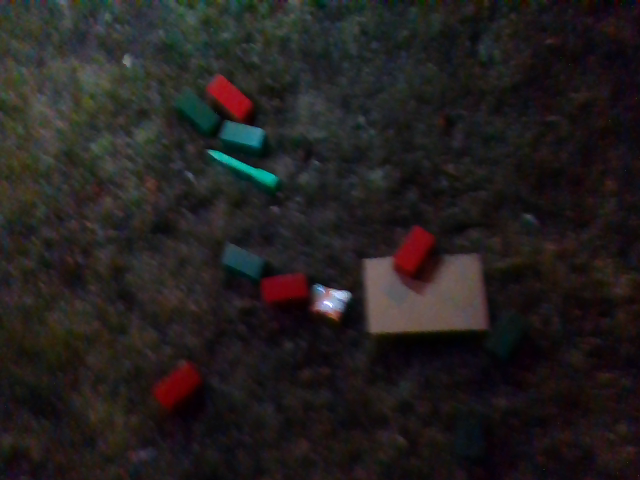Probe: (203, 143, 285, 188)
